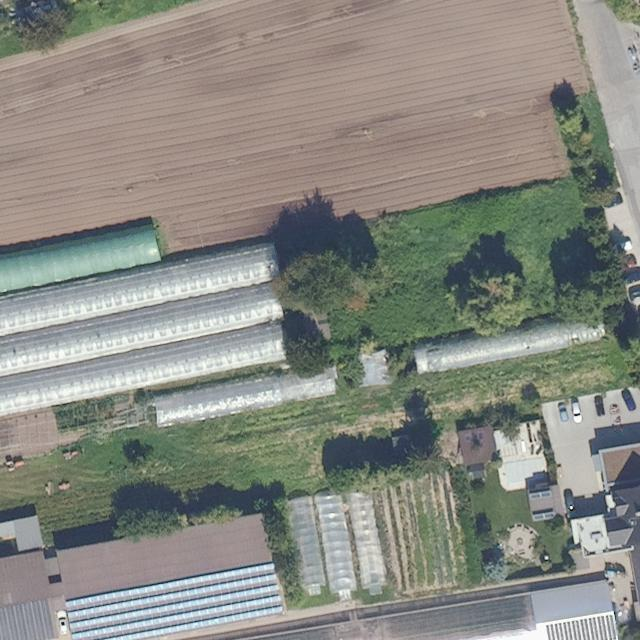PV: (63, 561, 284, 639)
